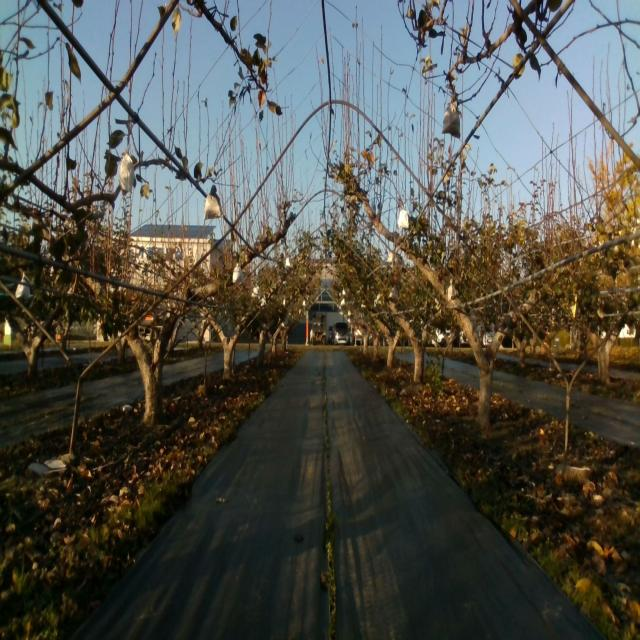pearbags: (442, 102, 461, 138), (118, 152, 135, 192), (204, 184, 222, 218), (232, 262, 245, 282), (398, 206, 408, 228)
